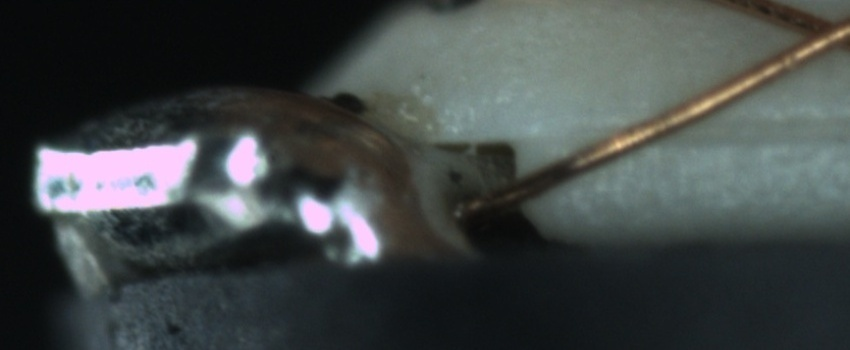CL: (777, 2, 849, 64)
DL: (607, 88, 848, 166)
